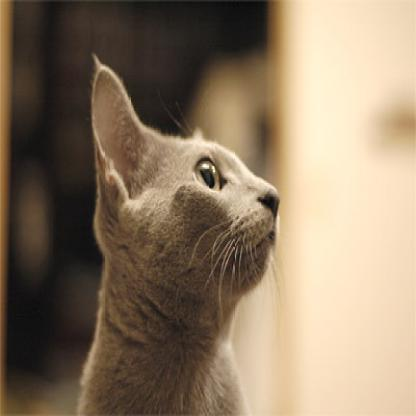cat: (77, 48, 283, 414)
